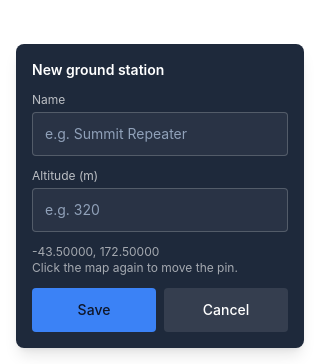
creating a ground station › rejects an altitude that is not a number
Type "Alpha" into the field labelled "Name".
click(160, 134); type("Alpha")  # box [32, 112, 288, 156]
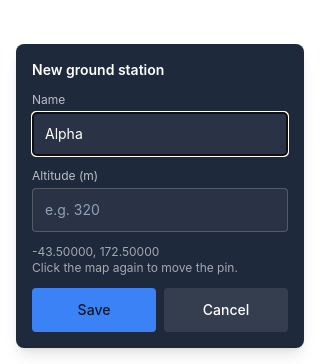
Type "high up" into the field labelled "Altitude (m)".
click(160, 210); type("high up")  # box [32, 188, 288, 232]
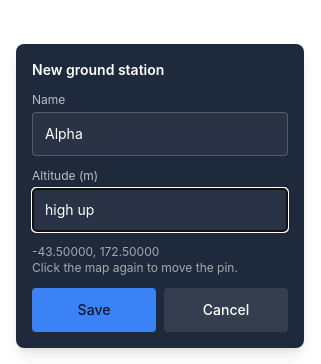
Click the button "Save".
click(94, 310)  # box [32, 288, 156, 332]
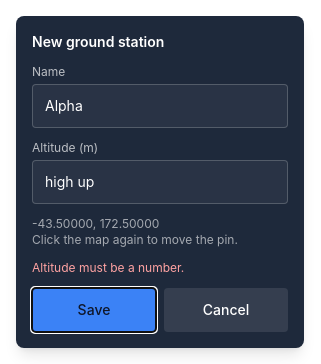
Check: the message reads "Altitude must be a number.", box [32, 260, 184, 275]
